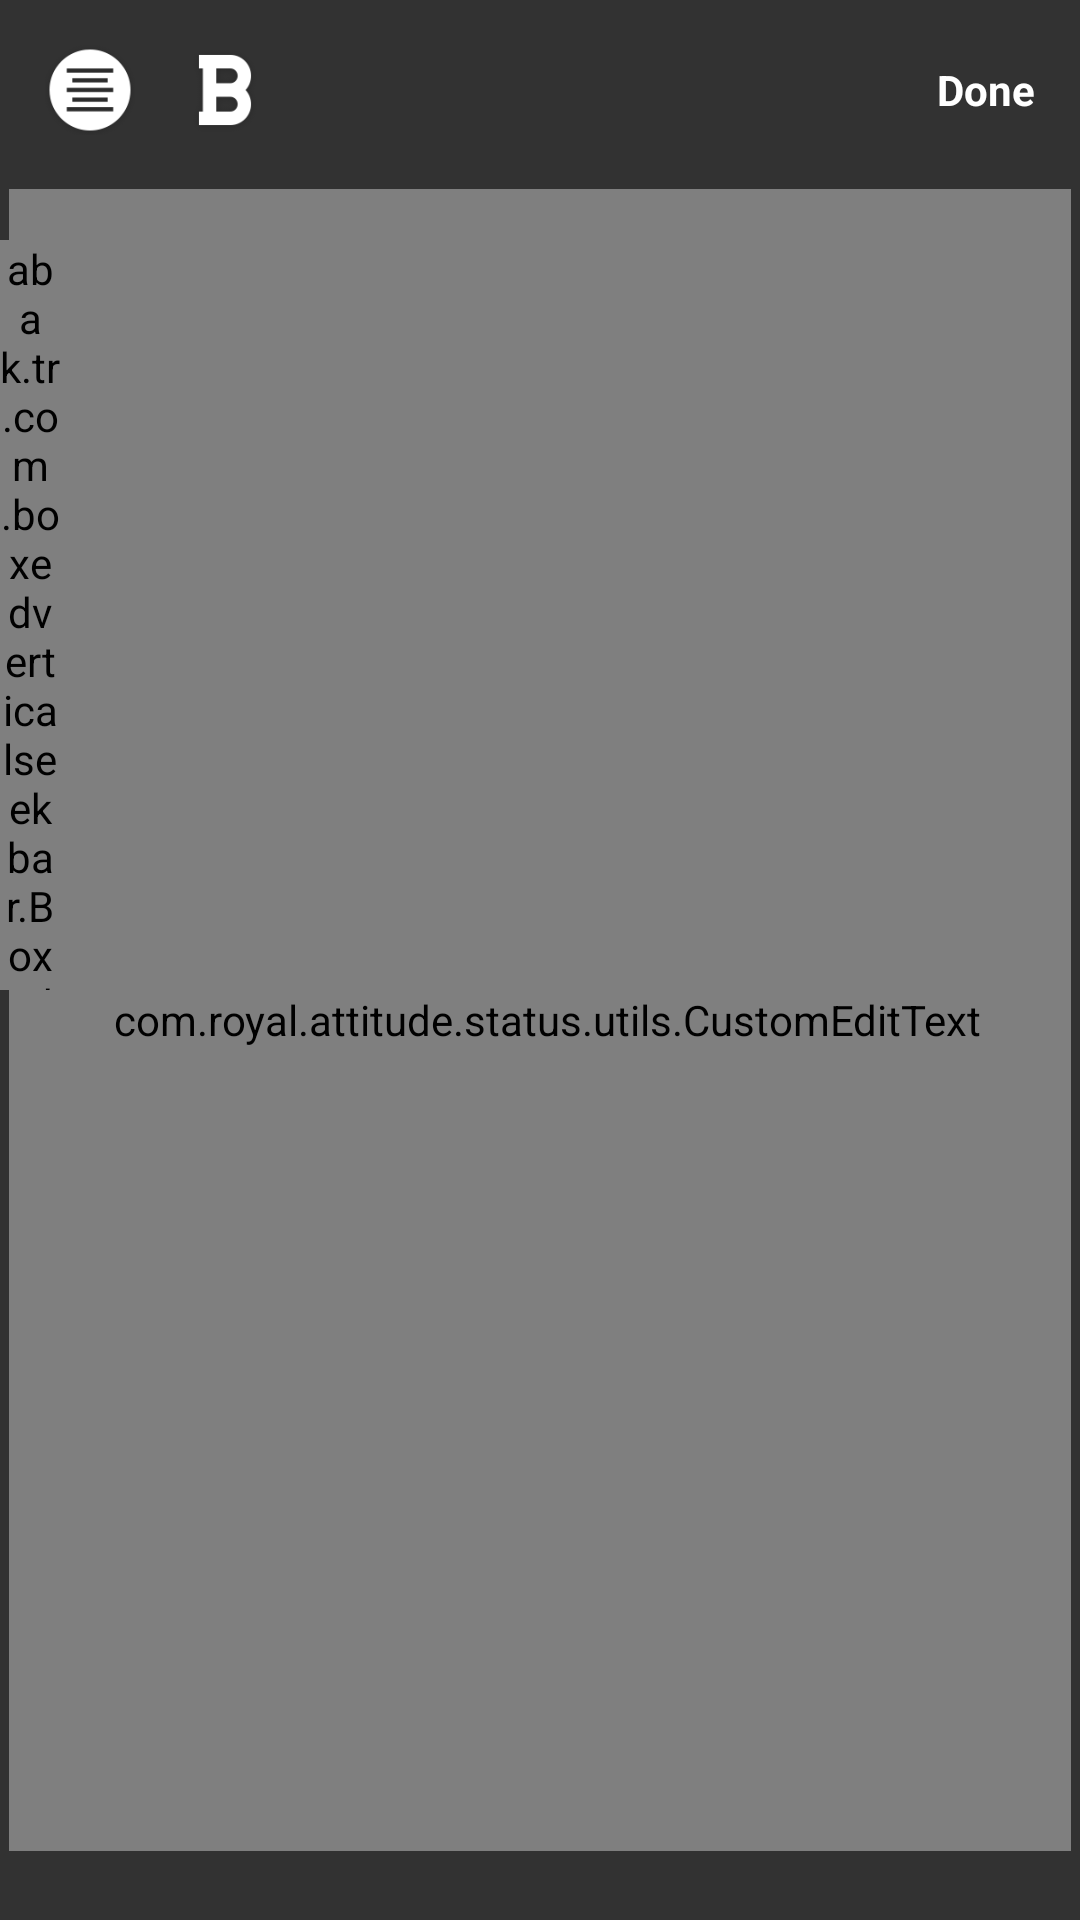

Icons on this 1080*1920 Android screen, each with the point to tap as (x,y):
align center: (90,90)
